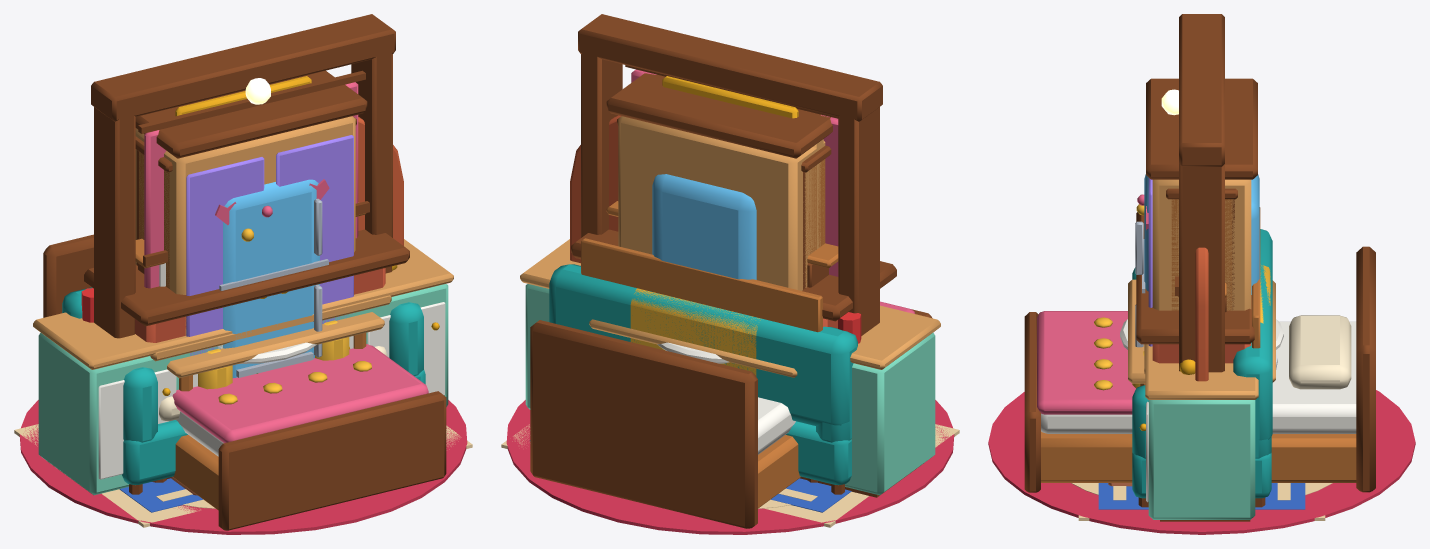
Rendered from house.glb.
The picture shows the model from 3 angles, left to right: view 1: azimuth 30°, elevation 25°; view 2: azimuth 150°, elevation 25°; view 3: azimuth 270°, elevation 25°; orthographic projection. The views are drawn at different scales.
Parts seen in each view (by area): view 1: bed, door_frame, wardrobe, counter, fridge, rug_round, fireplace, sofa, window, dining_table, rug_rect, workbench (+7 smaller); view 2: bed, door_frame, wardrobe, sofa, counter, rug_round, fridge, workbench, armchair, rug_rect, window, bookshelf (+6 smaller); view 3: bed, counter, door_frame, wardrobe, rug_round, sofa, fireplace, fridge, rug_rect, door, bookshelf, dining_table (+1 smaller).
Boxes of the visible parts, x1,y1,x2,y2 form: bed: (43,234,446,530); door_frame: (91,14,395,338); wardrobe: (135,70,367,355); counter: (33,239,453,495); fridge: (219,179,328,377); rug_round: (19,400,467,534); fireplace: (84,229,409,495); sofa: (62,287,425,494); window: (138,70,365,288); dining_table: (167,312,384,391); rug_rect: (14,424,472,527); workbench: (150,295,391,482); bed: (530,301,932,528); door_frame: (578,14,882,335); wardrobe: (606,73,832,290); sofa: (549,264,857,494); counter: (520,239,940,497); rug_round: (506,400,954,534); fridge: (652,174,756,279); workbench: (581,238,822,482); armchair: (630,288,760,376); rug_rect: (501,424,959,527); window: (625,65,838,276); bookshelf: (617,116,831,289); bed: (1024,246,1375,492); counter: (1139,344,1258,521); door_frame: (1161,14,1224,372); wardrobe: (1146,78,1257,346); rug_round: (988,390,1415,534); sofa: (1132,229,1272,507); fireplace: (1108,212,1254,486); fridge: (1135,174,1259,347); rug_rect: (1078,483,1325,520); door: (1179,247,1208,381); bookshelf: (1166,188,1237,310); dining_table: (1128,279,1275,386).
Bounding box in the file's own units: 2.6 × 2.46 × 2.6.
